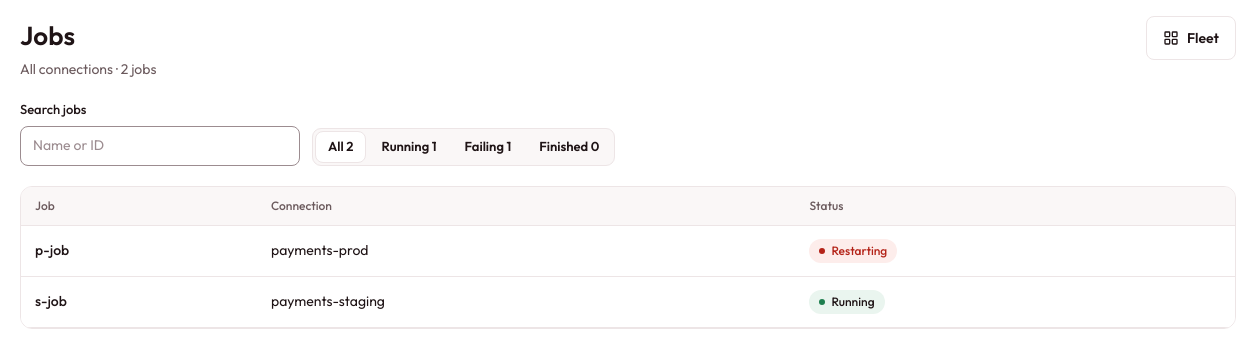
Test: JOB-11 · jobs across connections (board X18) › audit of 0347582: no chip counts until every connection answered; a filter with no match says so and clears
This screenshot has width=1253, height=346.
Expected: the button "s-job" is shown, [35,291,67,312]
Expected: the button "Failing 1" is shown, [452,130,524,162]
Type "zzz" into the search field labelled "Search jobs". click: (160, 146)
box: [20,126,300,166]
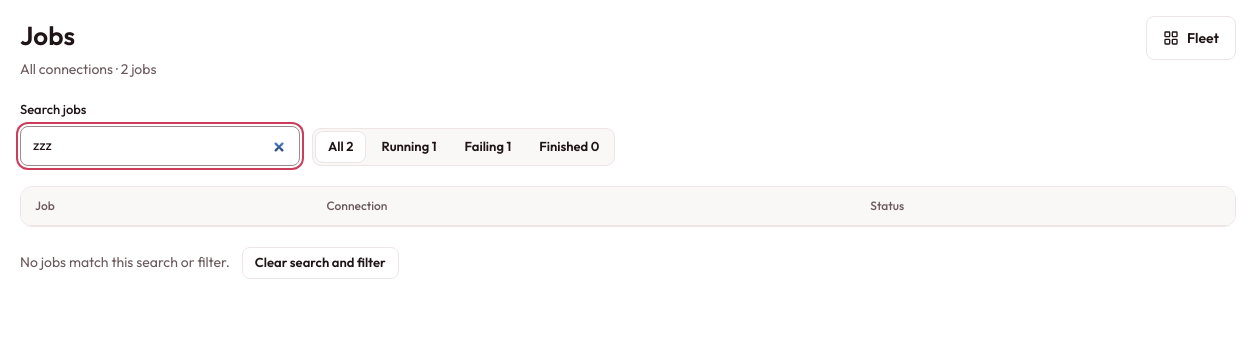
Expected: the text "No jobs match this search or filter." is shown, [20,253,230,271]
Click the button "Clear search and filter". click: (320, 262)
box: [242,246,399,278]
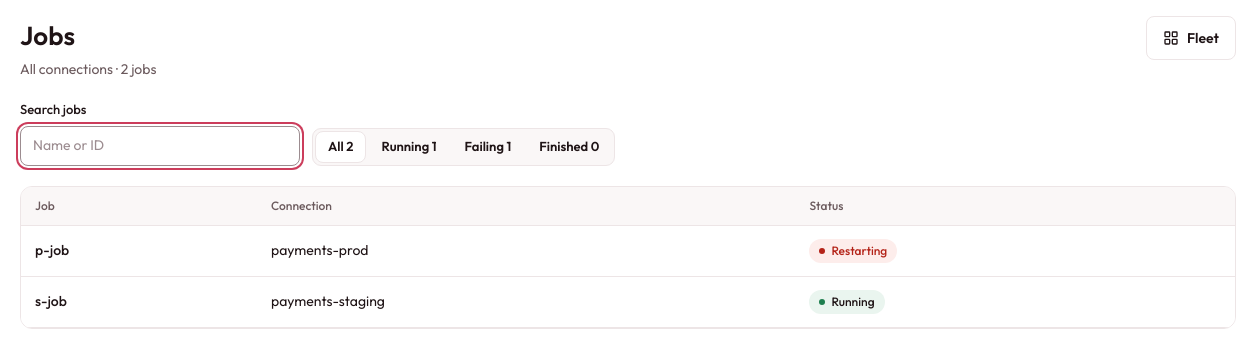
Expected: the search field labelled "Search jobs" is empty, [20,126,300,166]
Expected: the button "p-job" is shown, [35,240,69,261]
